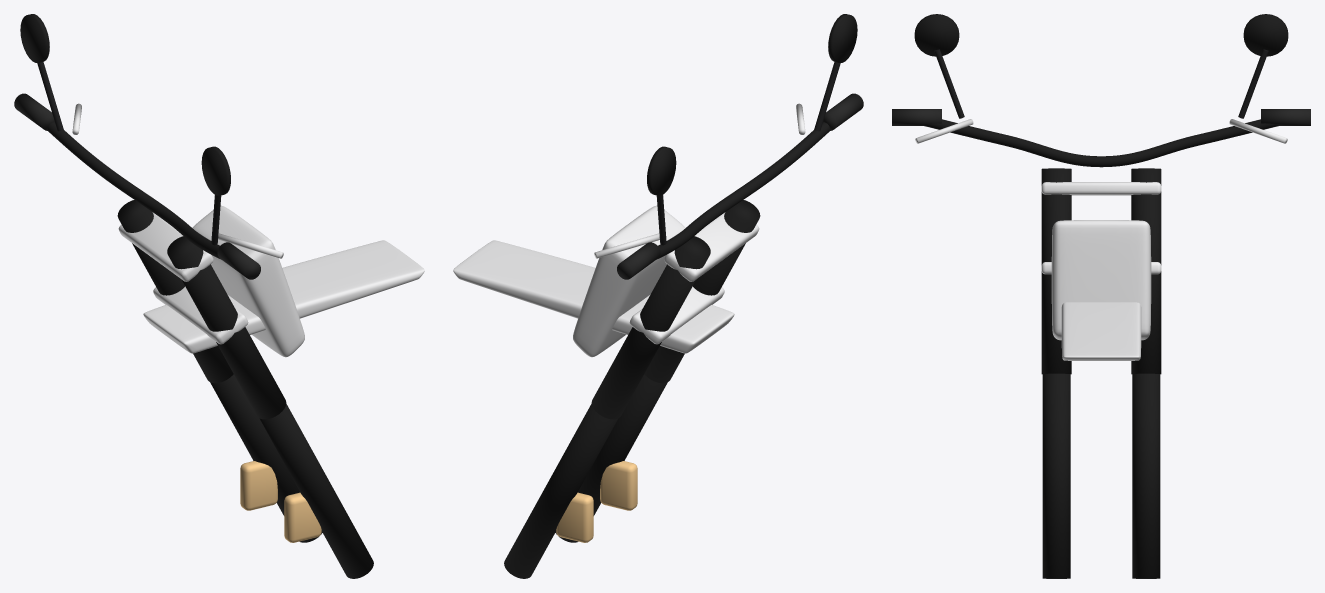
Rendered from SM690_Sterzo.glb.
3 views of the same model, side by side, from view 1: azimuth 30°, elevation 25°; view 2: azimuth 150°, elevation 25°; view 3: azimuth 270°, elevation 25° (orthographic). The views are drawn at different scales.
Parts seen in each view (by area): view 1: SM690_Sterzo; view 2: SM690_Sterzo; view 3: SM690_Sterzo.
Part boxes in pixels (x1,y1,x2,y2): SM690_Sterzo: (14, 14, 424, 578); SM690_Sterzo: (453, 14, 863, 578); SM690_Sterzo: (892, 14, 1310, 578).
Bounding box in the file's own units: 0.5934 × 1.05 × 0.84.
